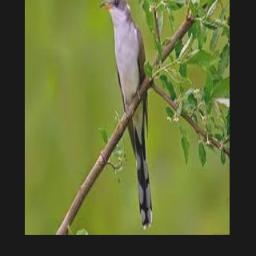Cuckoo: (100, 0, 154, 229)
